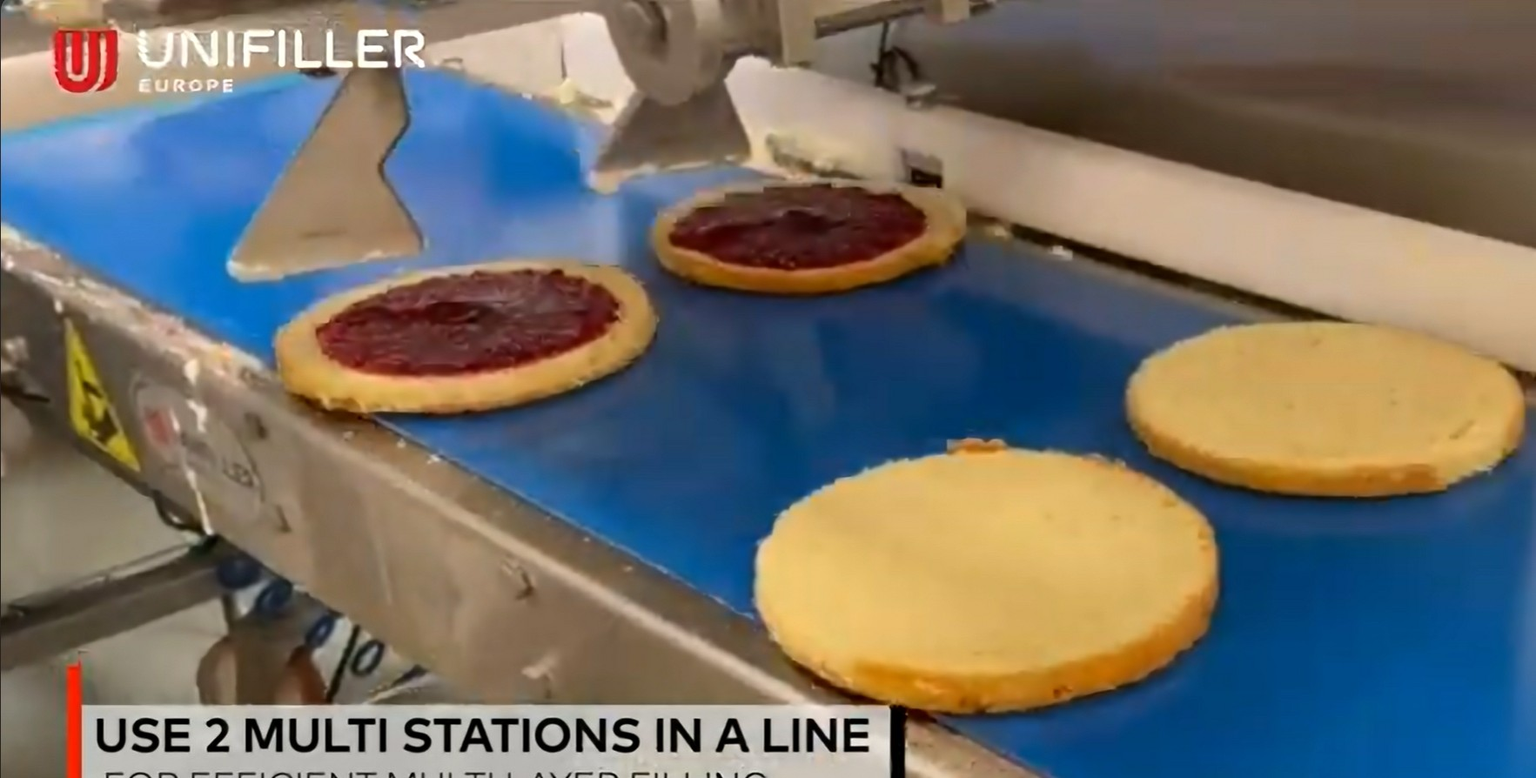Chocolate Coated: (271, 261, 655, 414)
Jam Coated: (656, 163, 965, 292)
Sponge Cake: (746, 439, 1223, 706), (1125, 319, 1519, 496)
